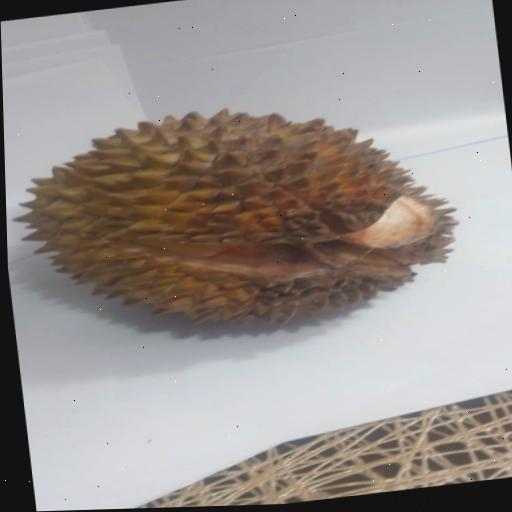rot: (2, 70, 491, 372)
